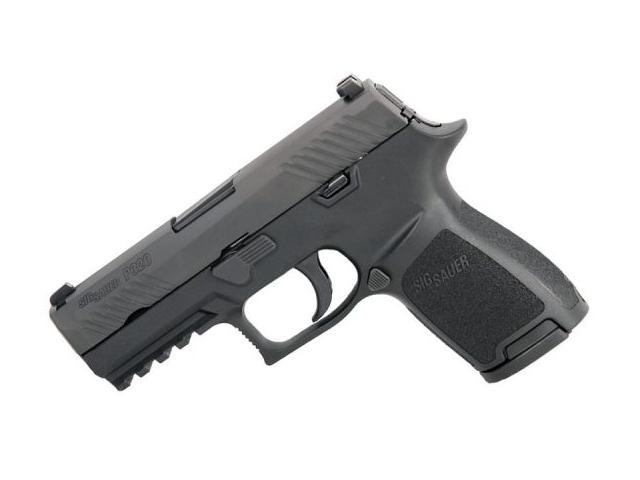pistol: (45, 73, 590, 412)
